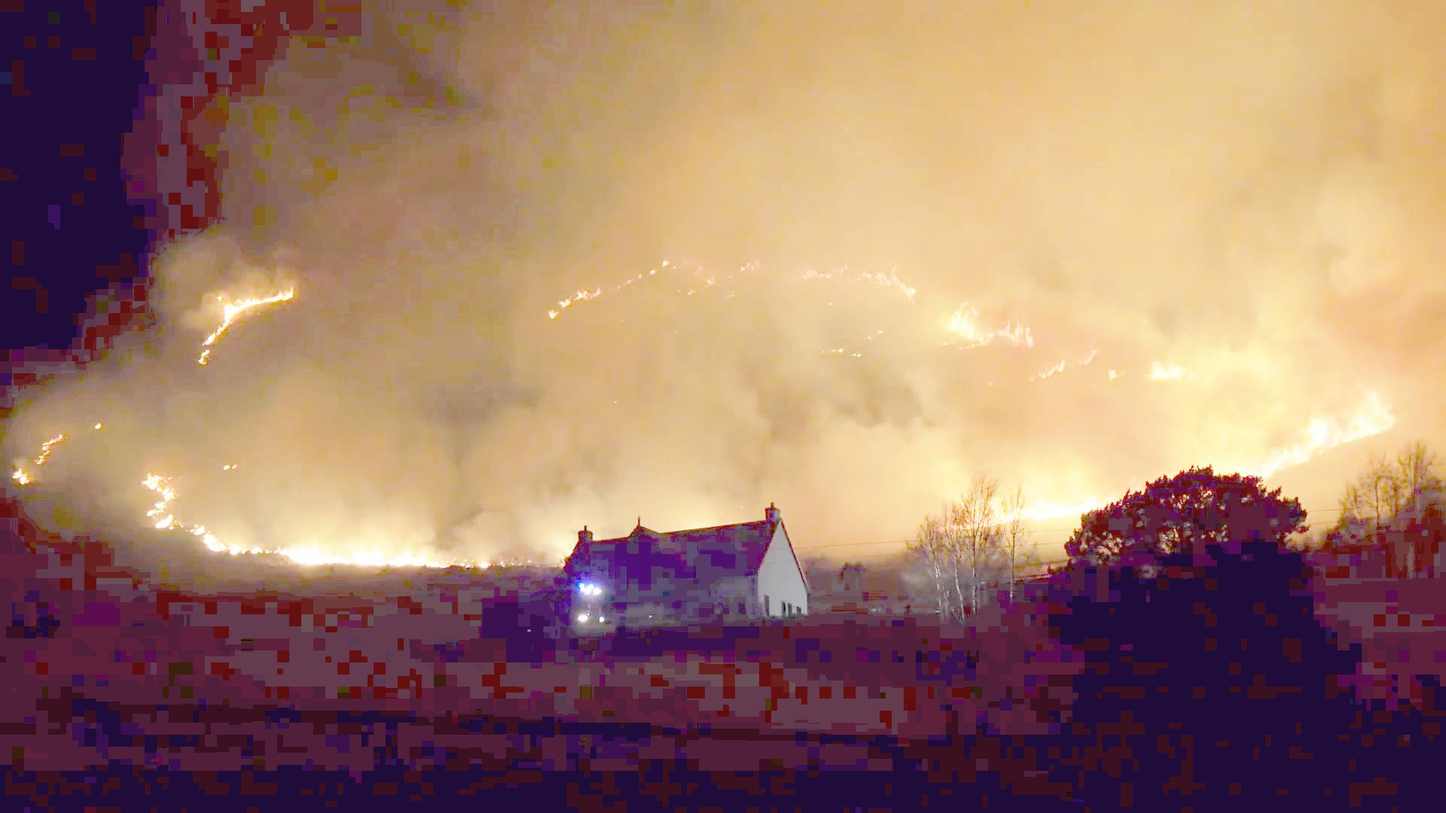fire: (1266, 401, 1388, 479), (930, 305, 1041, 368), (268, 535, 457, 569), (998, 488, 1088, 526)
smoke: (801, 0, 1412, 273)
